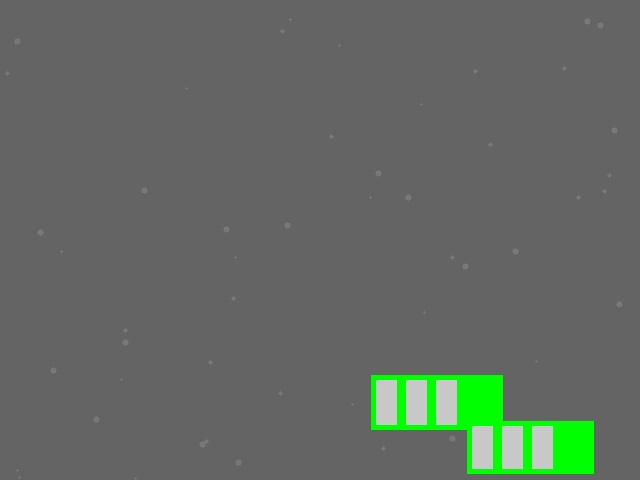bus: (371, 375, 502, 429), (467, 421, 593, 473)
